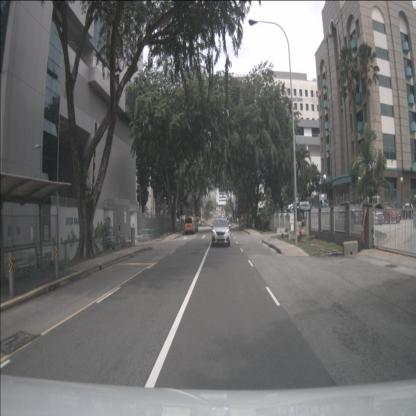movable_object-barrier: (288, 230, 296, 240)
vehicle-car: (337, 201, 367, 226), (374, 202, 401, 224), (358, 204, 384, 225), (211, 219, 230, 247), (296, 202, 317, 216), (401, 202, 416, 220), (184, 216, 196, 234), (190, 217, 198, 232)
vehicle-truck: (313, 194, 329, 215)
